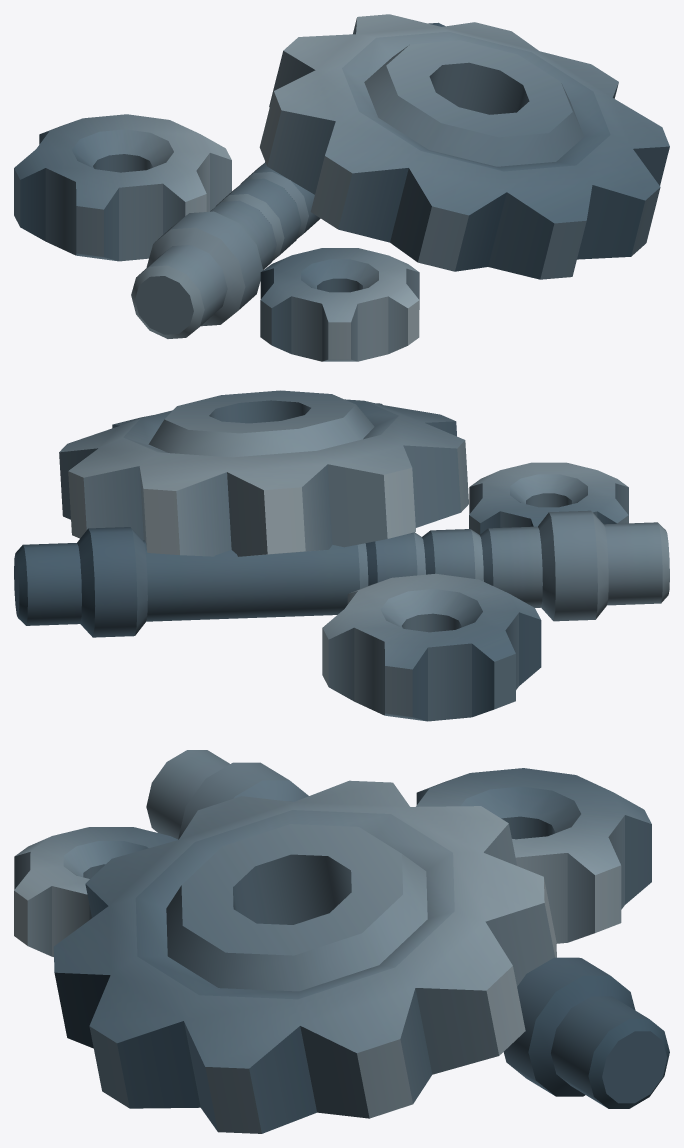
The model's file is Parts_Pile_Small.glb.
3 renders of one model, top to bottom at view 1: azimuth 30°, elevation 25°; view 2: azimuth 150°, elevation 25°; view 3: azimuth 270°, elevation 25°, orthographic. The views are drawn at different scales.
Visible parts, largest first — view 1: Parts_Pile_Small; view 2: Parts_Pile_Small; view 3: Parts_Pile_Small.
Part boxes in pixels (box(x1,y1,x2,y2)): Parts_Pile_Small: box(14, 14, 669, 361); Parts_Pile_Small: box(14, 390, 669, 721); Parts_Pile_Small: box(14, 750, 669, 1133).
Size of the model in its own units: 1.16 by 0.3344 by 0.9909.
1 material, 1 textured.
